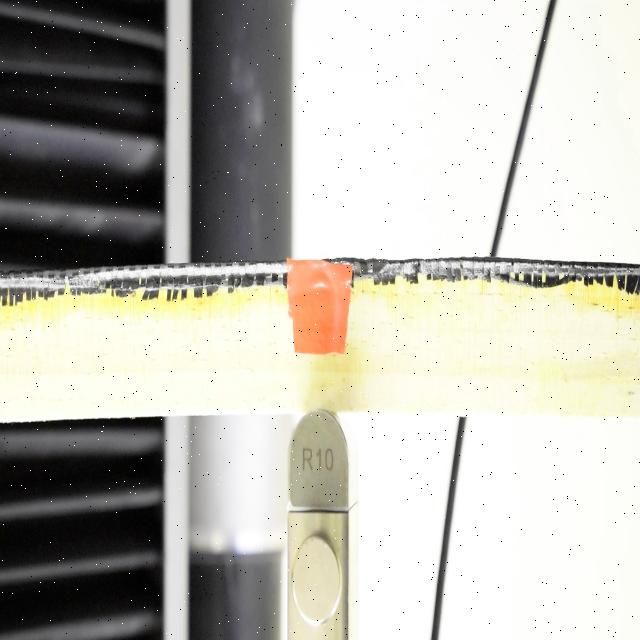wood: (2, 248, 637, 420)
